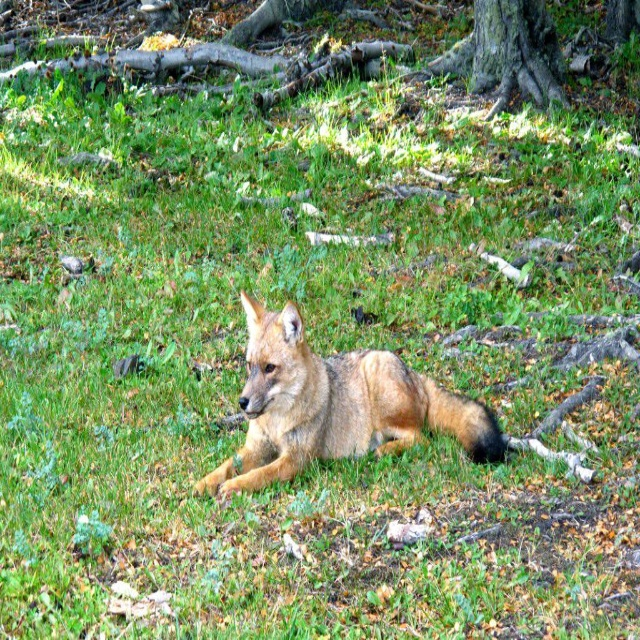Fox: (191, 290, 517, 502)
